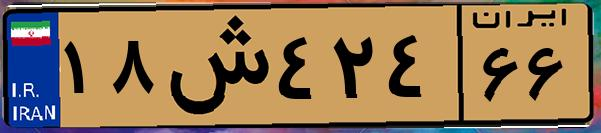1: (57, 26, 110, 100)
2: (330, 28, 385, 110)
4: (270, 28, 330, 110), (385, 28, 445, 110)
6: (475, 38, 525, 113), (525, 38, 570, 115)
8: (110, 28, 158, 98)
ش: (158, 12, 270, 120)
